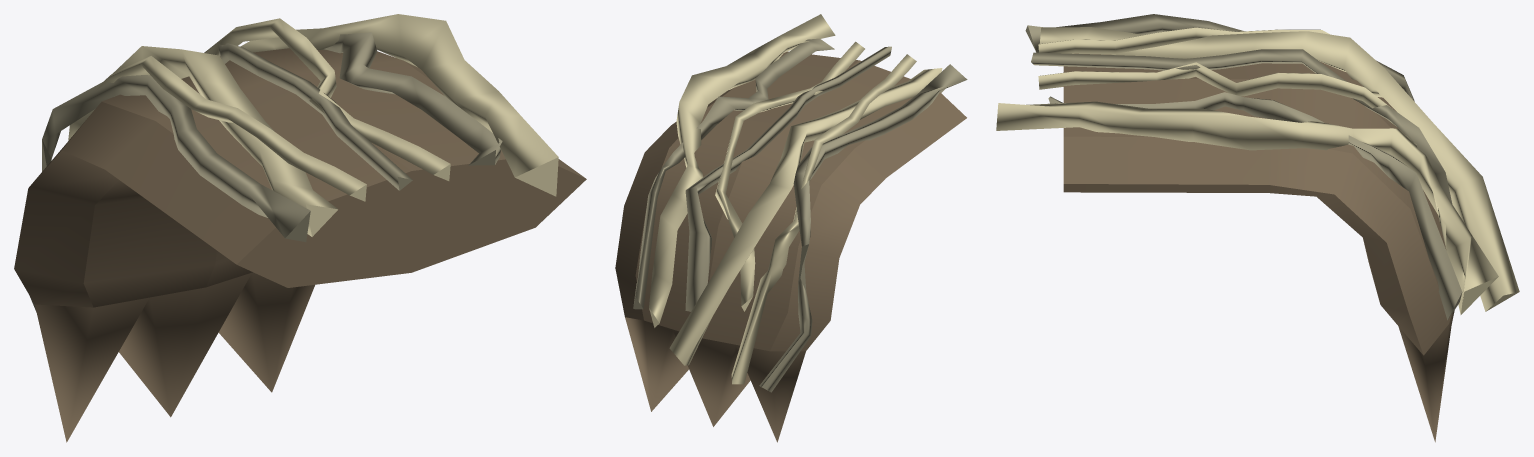
Rendered from plant bridge broken.fbx.
3 renders of one model, left to right at view 1: azimuth 30°, elevation 25°; view 2: azimuth 150°, elevation 25°; view 3: azimuth 270°, elevation 25°, orthographic. The views are drawn at different scales.
Visible parts, largest first — view 1: pCylinder1, polySurface12, polySurface13, polySurface18, polySurface17, polySurface15, polySurface14, polySurface16; view 2: pCylinder1, polySurface12, polySurface18, polySurface13, polySurface16, polySurface15, polySurface17, polySurface14; view 3: pCylinder1, polySurface12, polySurface18, polySurface17, polySurface16, polySurface14, polySurface15, polySurface13.
Boxes of the visible parts, bbox=[...] form: pCylinder1: bbox=[14, 48, 586, 442]; polySurface12: bbox=[240, 14, 558, 196]; polySurface13: bbox=[30, 75, 310, 312]; polySurface18: bbox=[113, 46, 338, 236]; polySurface17: bbox=[324, 32, 502, 165]; polySurface15: bbox=[68, 56, 366, 201]; polySurface14: bbox=[204, 18, 450, 180]; polySurface16: bbox=[218, 43, 412, 190]; pCylinder1: bbox=[615, 51, 966, 442]; polySurface12: bbox=[649, 14, 835, 327]; polySurface18: bbox=[669, 68, 942, 365]; polySurface13: bbox=[759, 64, 967, 392]; polySurface16: bbox=[685, 46, 891, 311]; polySurface15: bbox=[731, 54, 916, 384]; polySurface17: bbox=[633, 38, 834, 309]; polySurface14: bbox=[715, 41, 864, 311]; pCylinder1: bbox=[1063, 53, 1454, 442]; polySurface12: bbox=[996, 101, 1498, 314]; polySurface18: bbox=[1039, 27, 1519, 311]; polySurface17: bbox=[1048, 92, 1462, 320]; polySurface16: bbox=[1031, 49, 1452, 203]; polySurface14: bbox=[1038, 62, 1416, 144]; polySurface15: bbox=[1038, 27, 1329, 54]; polySurface13: bbox=[1025, 14, 1414, 101].
Size of the model in its own units: 7.21 by 8.78 by 12.01.
